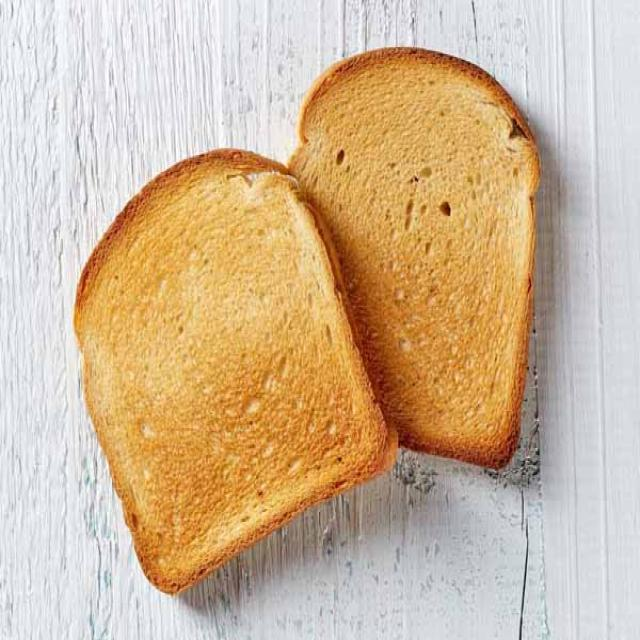Bread: (75, 48, 539, 592), (74, 150, 396, 592)
